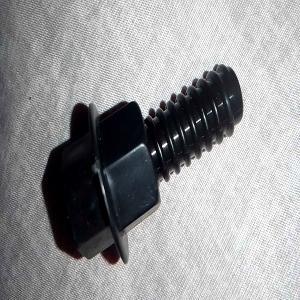parafuso: (59, 64, 243, 262)
